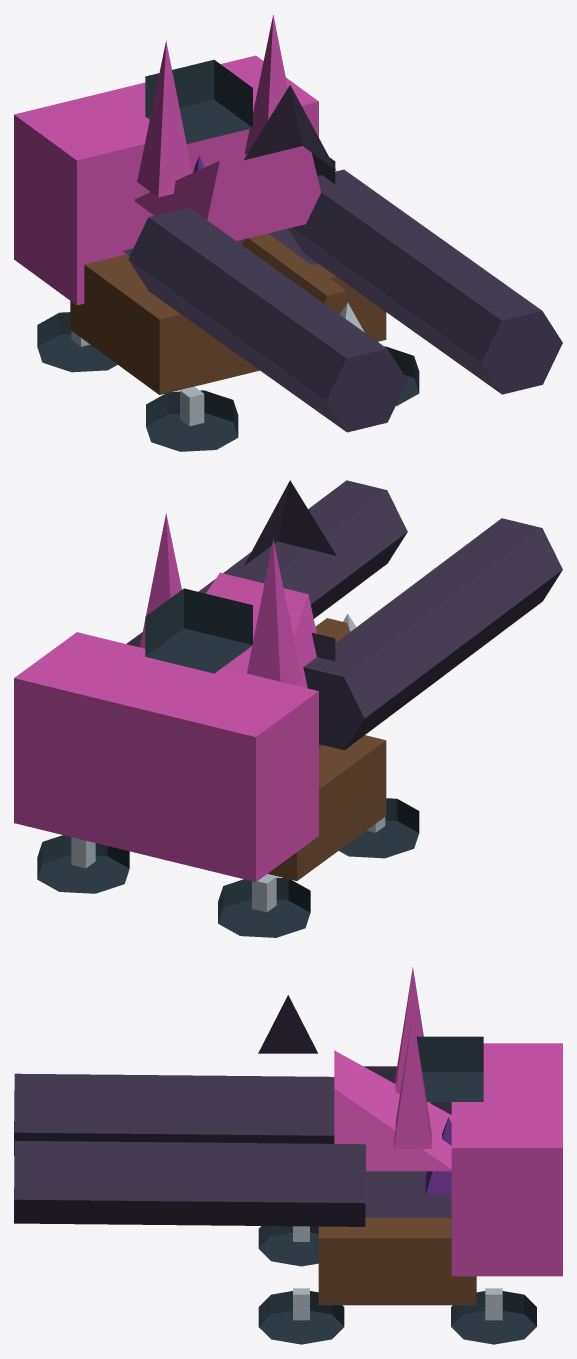
The model's file is heavy-war-machine.obj.
3 renders of one model, top to bottom at view 1: azimuth 30°, elevation 25°; view 2: azimuth 150°, elevation 25°; view 3: azimuth 270°, elevation 25°, orthographic. The views are drawn at different scales.
Parts seen in each view (by area): view 1: siege; view 2: siege; view 3: siege.
Part boxes in pixels (bbox=[...]): siege: bbox=[14, 15, 562, 451]; siege: bbox=[14, 480, 562, 937]; siege: bbox=[14, 967, 562, 1344].
Bounding box in the file's own units: 1.42 × 1.74 × 2.91.
